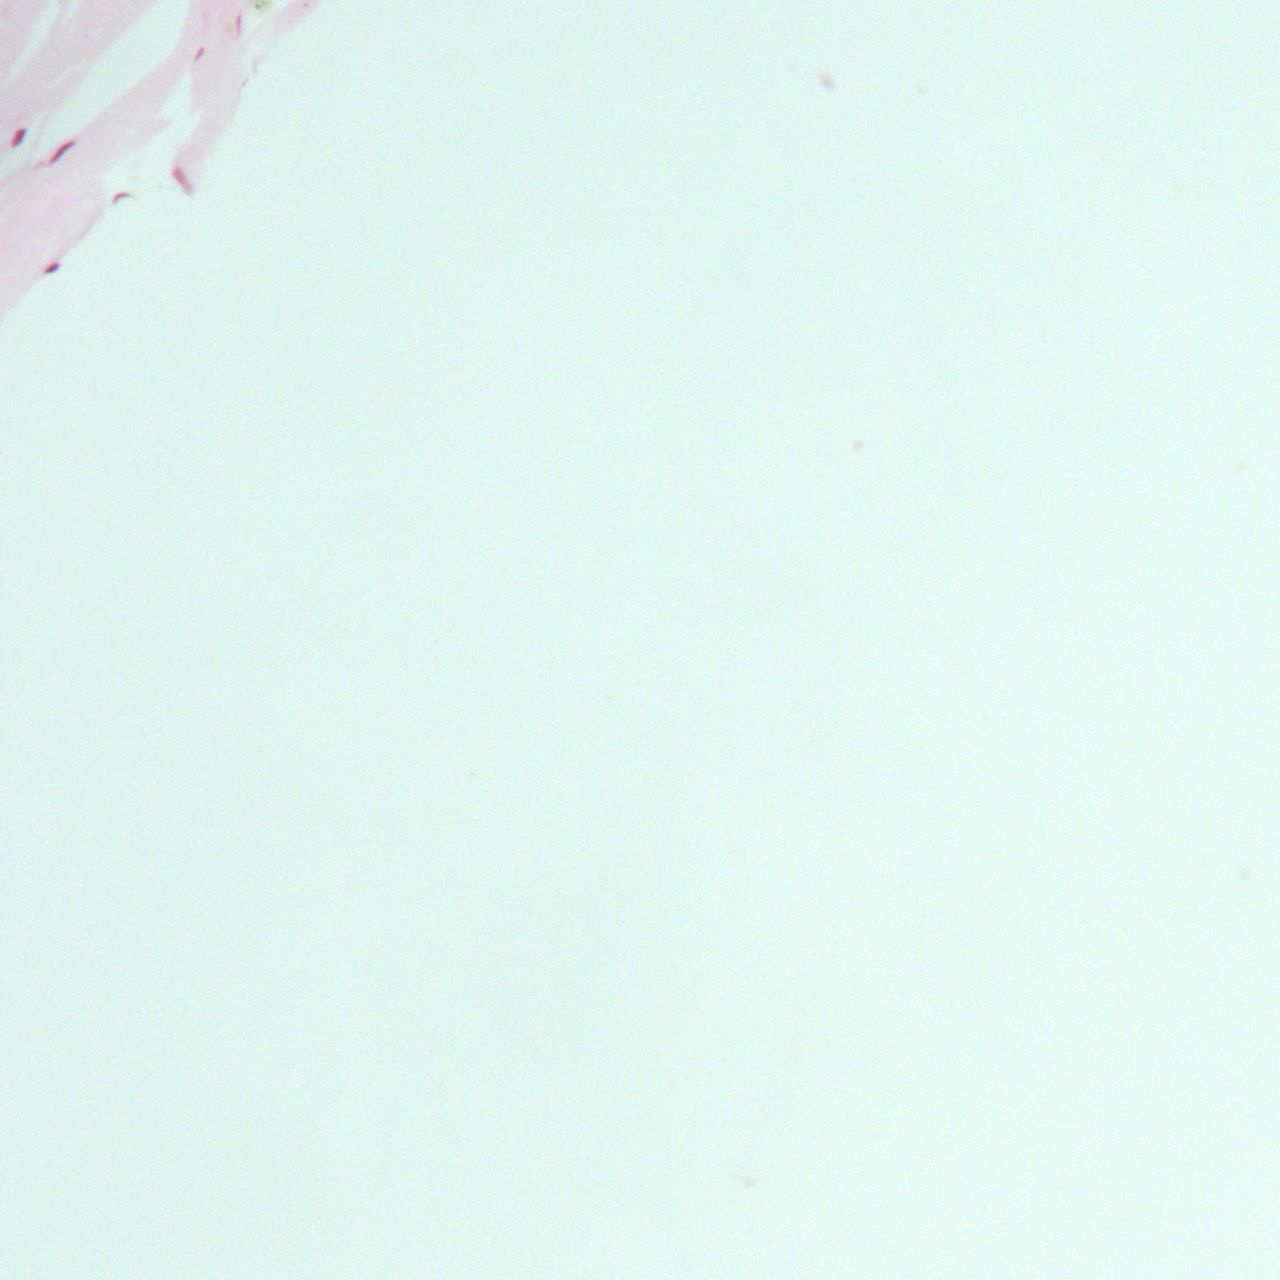nucleus-AC: (43, 136, 80, 166), (168, 166, 196, 196), (6, 124, 30, 149), (110, 193, 131, 204), (193, 46, 206, 61), (236, 12, 243, 38), (45, 263, 60, 273)
